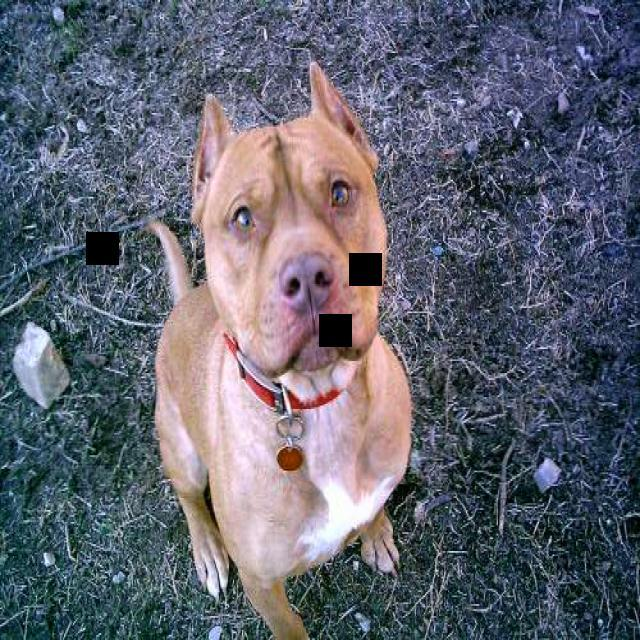adult_dog: (133, 57, 422, 633)
